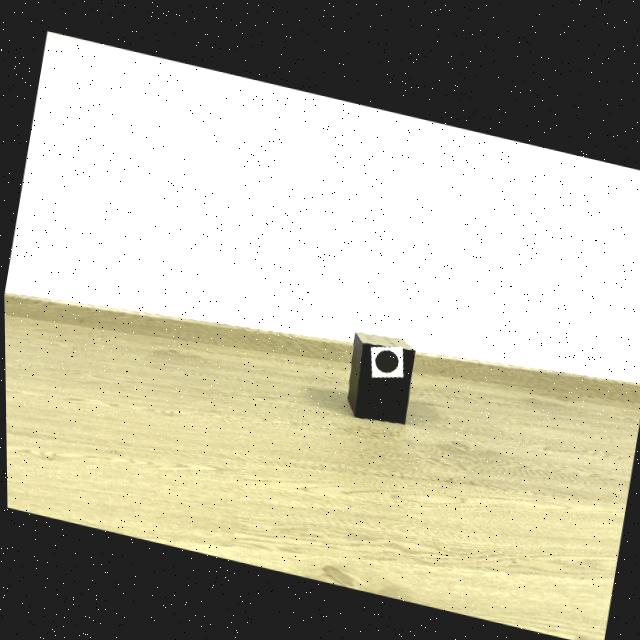CIRCLE: (374, 345, 397, 368)
